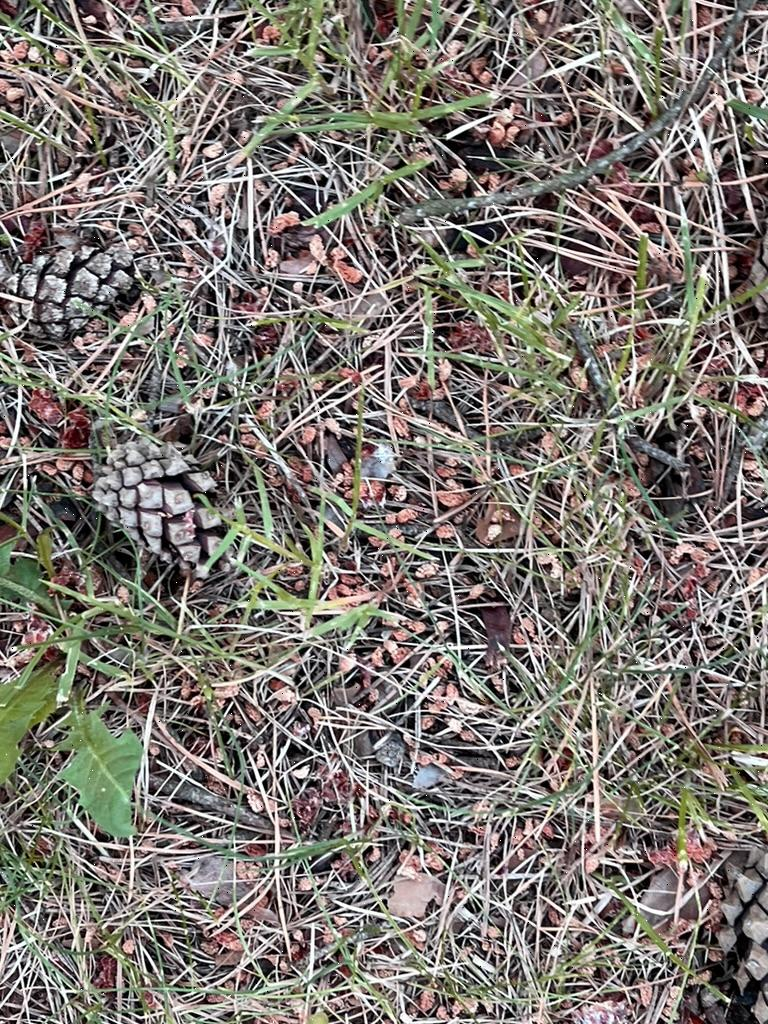pine: (88, 416, 278, 583), (0, 223, 173, 353), (698, 833, 768, 1024), (738, 135, 768, 350)
